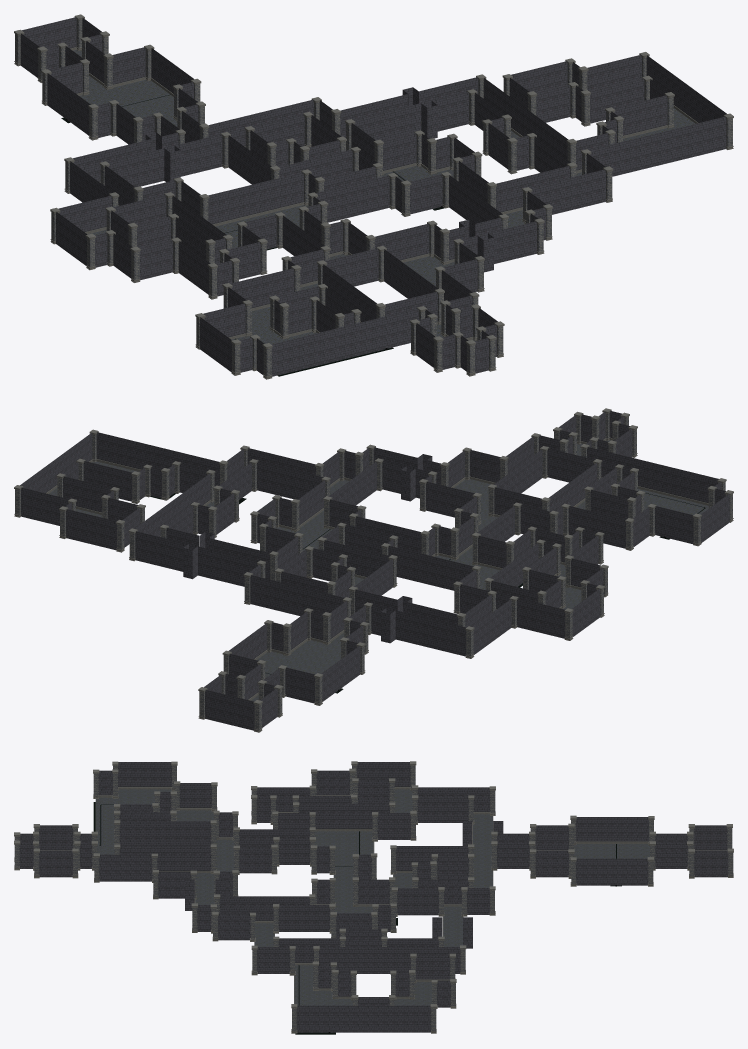
The model's file is podlogaSciany.FBX.
3 views of the same model, one above another, from view 1: azimuth 30°, elevation 25°; view 2: azimuth 150°, elevation 25°; view 3: azimuth 270°, elevation 25° (orthographic). The views are drawn at different scales.
Visible parts, largest first — view 1: pillar_LP018, stoneFloor1_LP096; view 2: pillar_LP018, stoneFloor1_LP096; view 3: pillar_LP018, stoneFloor1_LP096.
Boxes of the visible parts, bbox=[...] form: pillar_LP018: bbox=[14, 14, 733, 379]; stoneFloor1_LP096: bbox=[61, 50, 695, 376]; pillar_LP018: bbox=[14, 408, 733, 732]; stoneFloor1_LP096: bbox=[49, 440, 708, 701]; pillar_LP018: bbox=[14, 761, 733, 1033]; stoneFloor1_LP096: bbox=[93, 789, 650, 1034].
Bounding box in the file's own units: 5876 × 312 × 7260.
6 materials, 4 textured.
